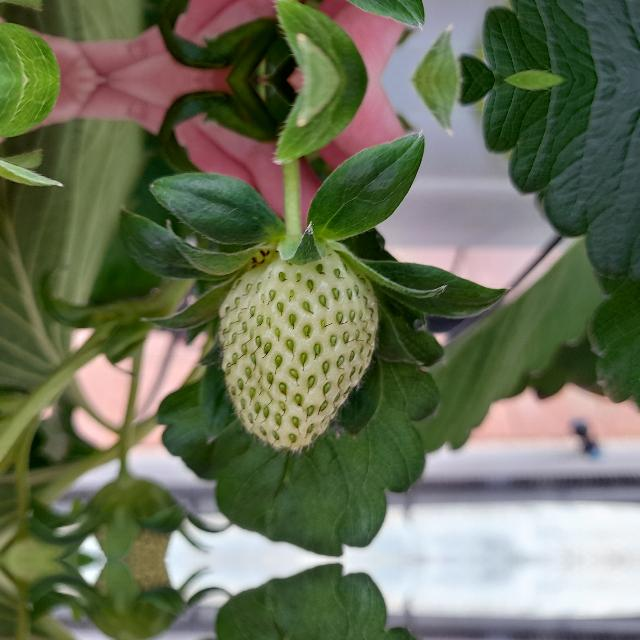Health_25: (217, 245, 379, 450)
